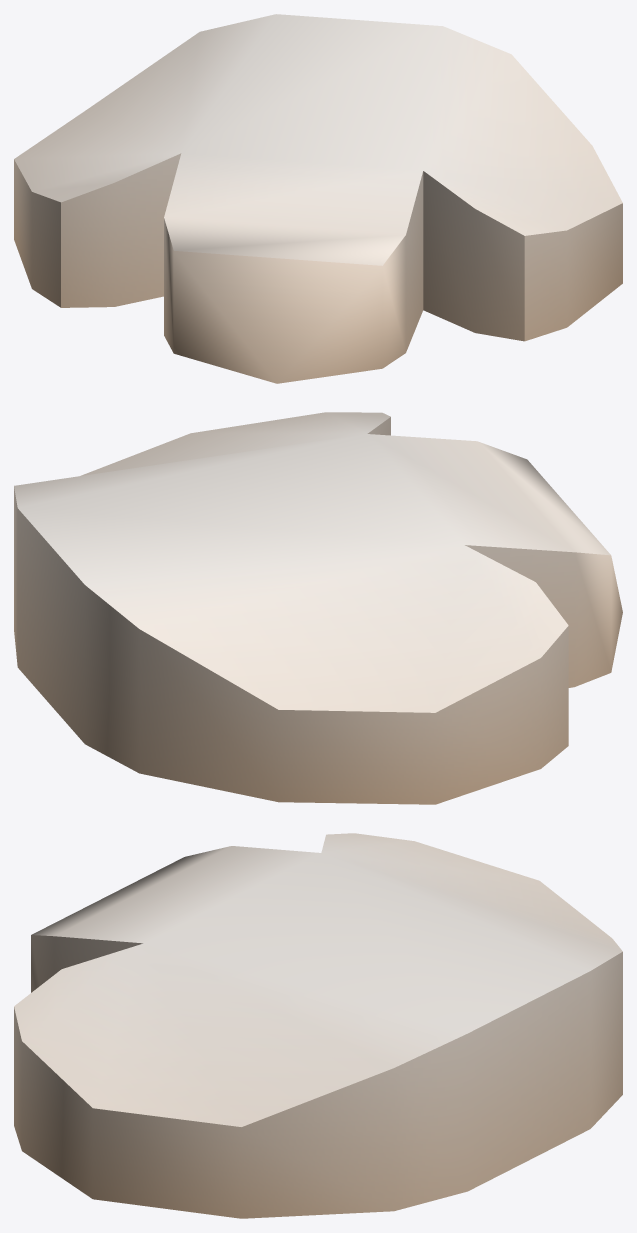
The model's file is food_ingredient_mushroom_gib_E.gltf.
The picture shows the model from 3 angles, top to bottom: view 1: azimuth 30°, elevation 25°; view 2: azimuth 150°, elevation 25°; view 3: azimuth 270°, elevation 25°; orthographic projection. The views are drawn at different scales.
Parts seen in each view (by area): view 1: food_ingredient_mushroom_pieces.004; view 2: food_ingredient_mushroom_pieces.004; view 3: food_ingredient_mushroom_pieces.004.
Boxes of the visible parts, x1=… form: food_ingredient_mushroom_pieces.004: x1=14, y1=14, x2=622, y2=383; food_ingredient_mushroom_pieces.004: x1=14, y1=412, x2=622, y2=804; food_ingredient_mushroom_pieces.004: x1=14, y1=833, x2=622, y2=1218.
Bounding box in the file's own units: 0.2136 × 0.0588 × 0.2055.
1 material, 1 textured.
